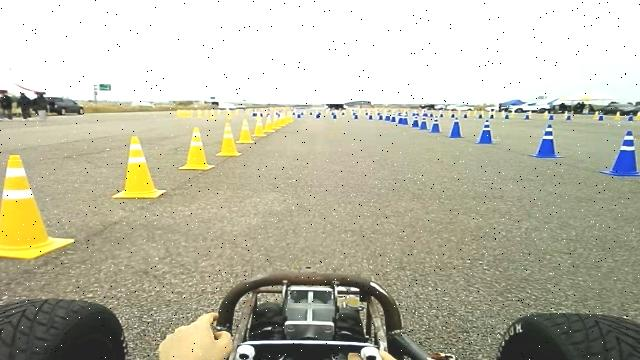blue cone: (600, 129, 640, 176), (530, 123, 564, 158), (476, 119, 497, 144), (447, 114, 465, 138), (430, 113, 442, 133), (412, 112, 422, 128), (419, 114, 428, 130)
yellow cone: (0, 153, 76, 259), (112, 135, 166, 199), (178, 126, 216, 170), (216, 122, 242, 156), (236, 118, 255, 143), (252, 113, 267, 137), (261, 114, 275, 134)
